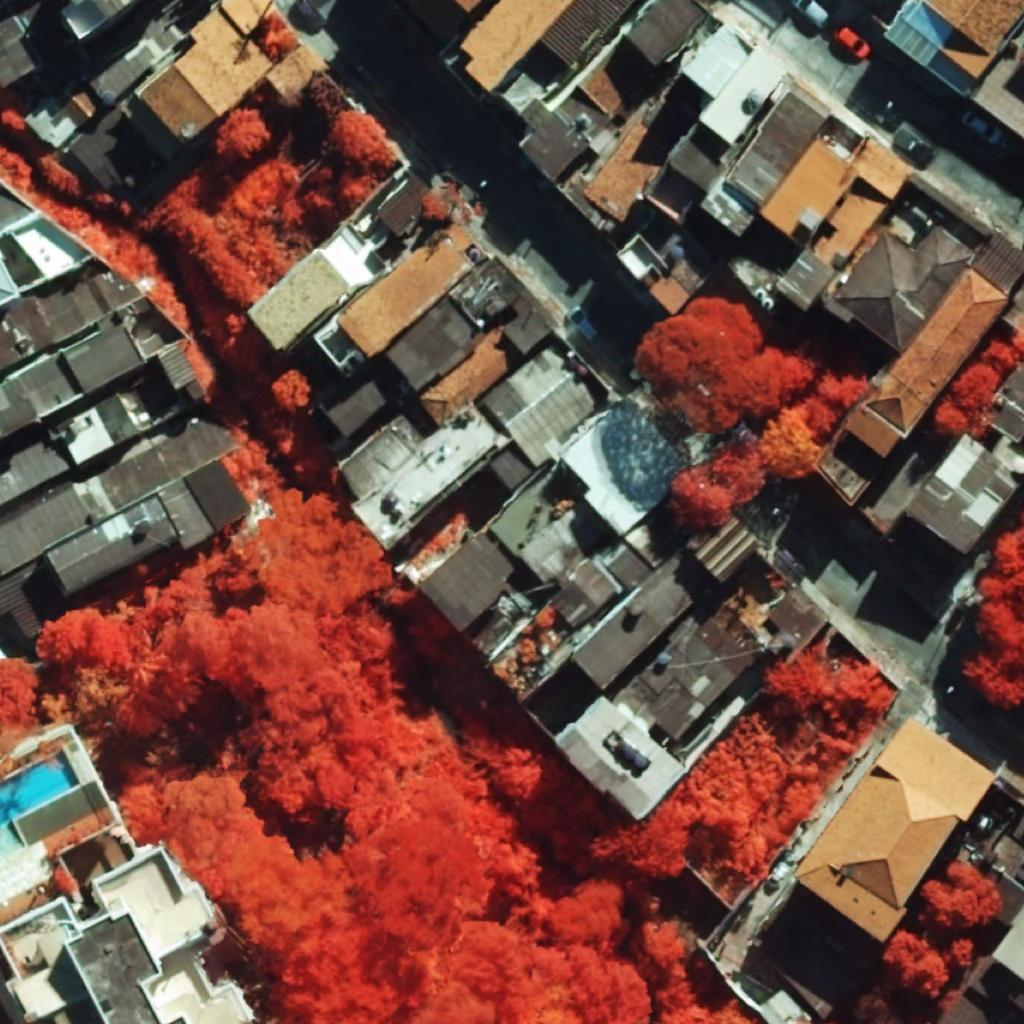pool: (0, 751, 79, 824)
